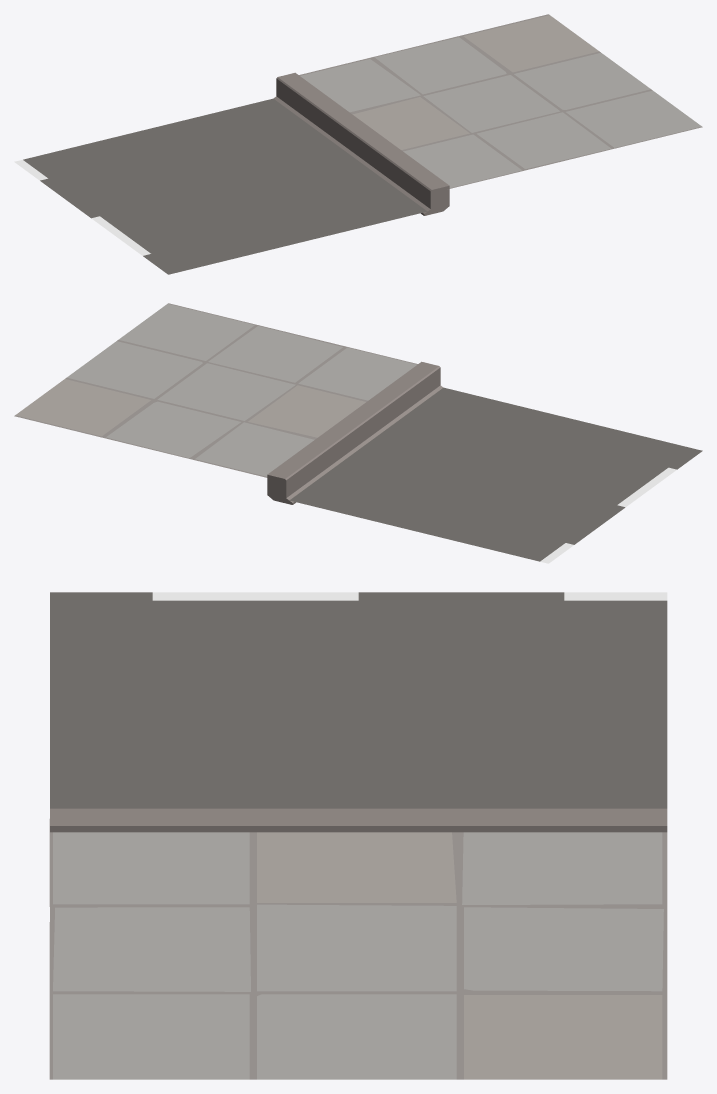
Rendered from Road_19.fbx.
The picture shows the model from 3 angles, top to bottom: view 1: azimuth 30°, elevation 25°; view 2: azimuth 150°, elevation 25°; view 3: azimuth 270°, elevation 25°; orthographic projection. The views are drawn at different scales.
Parts seen in each view (by area): view 1: Road_19; view 2: Road_19; view 3: Road_19.
Boxes of the visible parts, x1,y1,x2,y2 form: Road_19: [14, 14, 702, 274]; Road_19: [14, 303, 702, 563]; Road_19: [49, 592, 667, 1079].
Size of the model in its own units: 12 by 0.5208 by 6.
